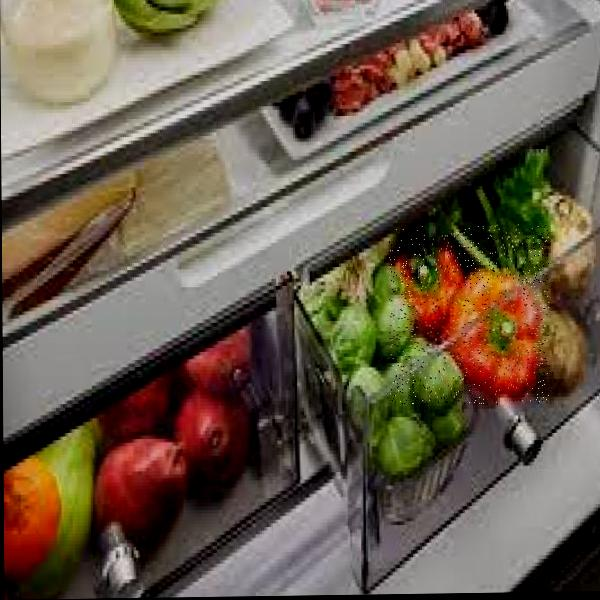peppers: (389, 224, 550, 406)
